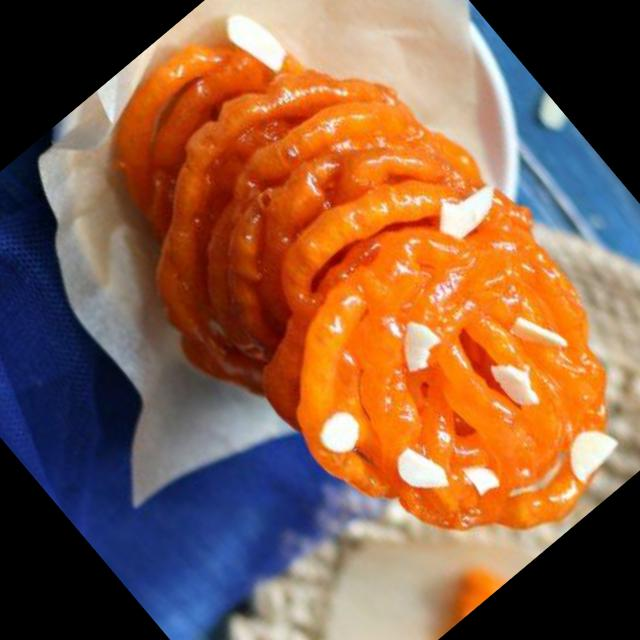jalebi: (31, 0, 640, 623)
